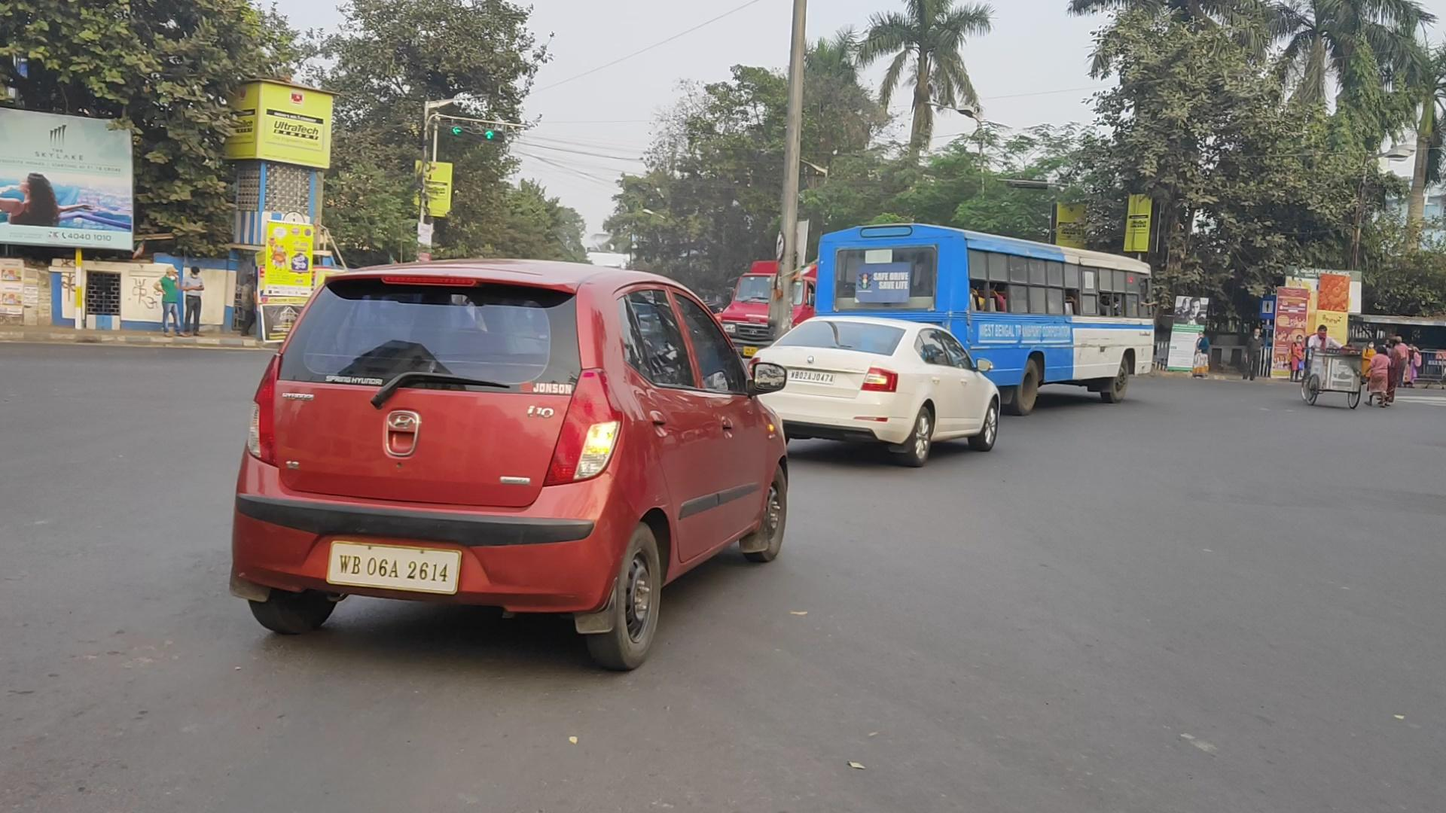Bus: (813, 222, 1155, 416)
car: (229, 258, 789, 671), (748, 315, 1001, 468)
